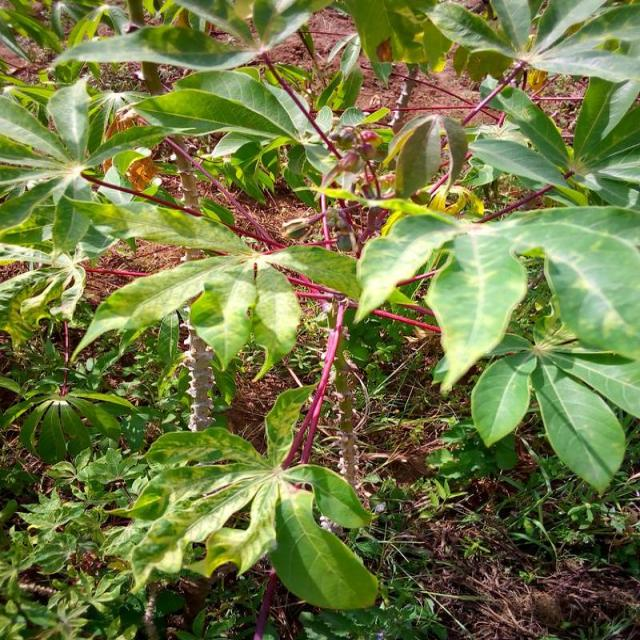cassava leaf: (112, 381, 379, 610)
